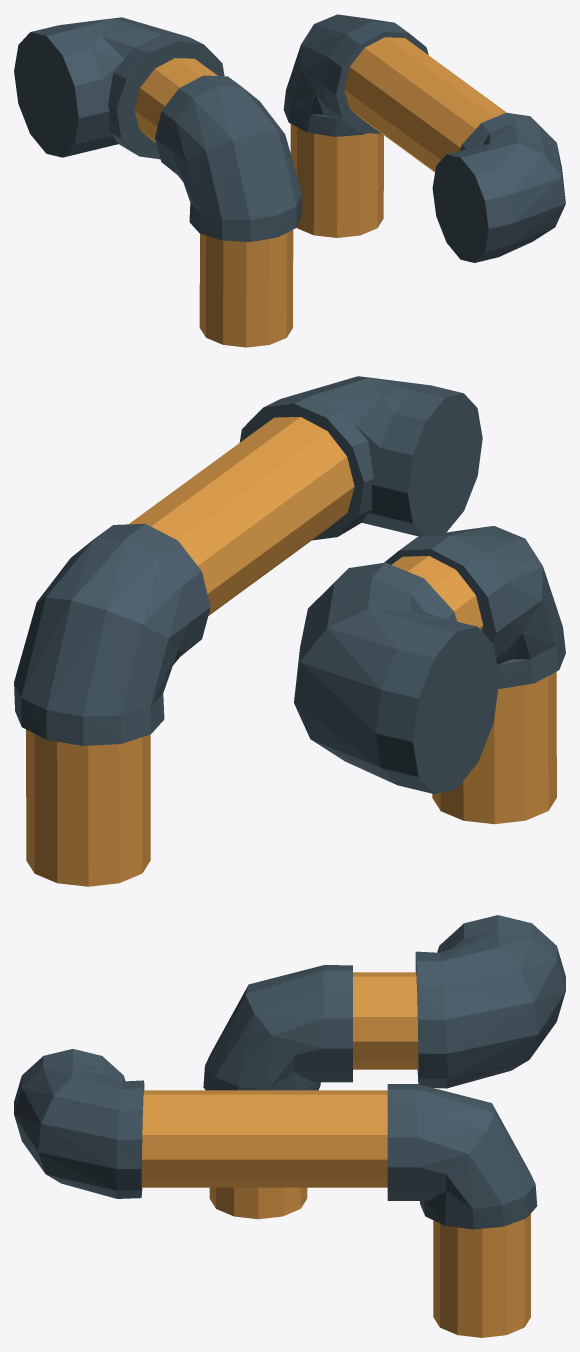
Rendered from трубы 3.fbx.
The picture shows the model from 3 angles, top to bottom: view 1: azimuth 30°, elevation 25°; view 2: azimuth 150°, elevation 25°; view 3: azimuth 270°, elevation 25°; orthographic projection. The views are drawn at different scales.
Parts seen in each view (by area): view 1: group1421749061.002, group231731733.002, group1421749061.001, group444473868.001, group372445576.002, group372445576.001, group231731733.001, group444473868.002; view 2: group1421749061.002, group231731733.001, group444473868.001, group1421749061.001, group372445576.001, group231731733.002, group372445576.002, group444473868.002; view 3: group444473868.001, group1421749061.002, group231731733.001, group1421749061.001, group231731733.002, group372445576.001, group444473868.002, group372445576.002.
Boxes of the visible parts, x1=… form: group1421749061.002: x1=14, y1=17, x2=224, y2=159; group231731733.002: x1=155, y1=75, x2=302, y2=241; group1421749061.001: x1=432, y1=112, x2=565, y2=262; group444473868.001: x1=344, y1=37, x2=506, y2=172; group372445576.002: x1=199, y1=230, x2=293, y2=347; group372445576.001: x1=290, y1=124, x2=383, y2=237; group231731733.001: x1=283, y1=14, x2=428, y2=136; group444473868.002: x1=134, y1=58, x2=217, y2=142; group1421749061.002: x1=294, y1=562, x2=499, y2=794; group231731733.001: x1=14, y1=523, x2=210, y2=745; group444473868.001: x1=129, y1=417, x2=354, y2=615; group1421749061.001: x1=239, y1=376, x2=482, y2=540; group372445576.001: x1=26, y1=729, x2=150, y2=886; group231731733.002: x1=384, y1=526, x2=565, y2=689; group372445576.002: x1=432, y1=672, x2=556, y2=824; group444473868.002: x1=391, y1=556, x2=483, y2=630; group444473868.001: x1=141, y1=1090, x2=387, y2=1187; group1421749061.002: x1=415, y1=915, x2=565, y2=1088; group231731733.001: x1=387, y1=1084, x2=537, y2=1229; group1421749061.001: x1=14, y1=1049, x2=144, y2=1198; group231731733.002: x1=203, y1=965, x2=352, y2=1090; group372445576.001: x1=433, y1=1214, x2=530, y2=1337; group444473868.002: x1=353, y1=972, x2=418, y2=1069; group372445576.002: x1=209, y1=1187, x2=307, y2=1219.
Bounding box in the file's own units: 158 × 111 × 215.
